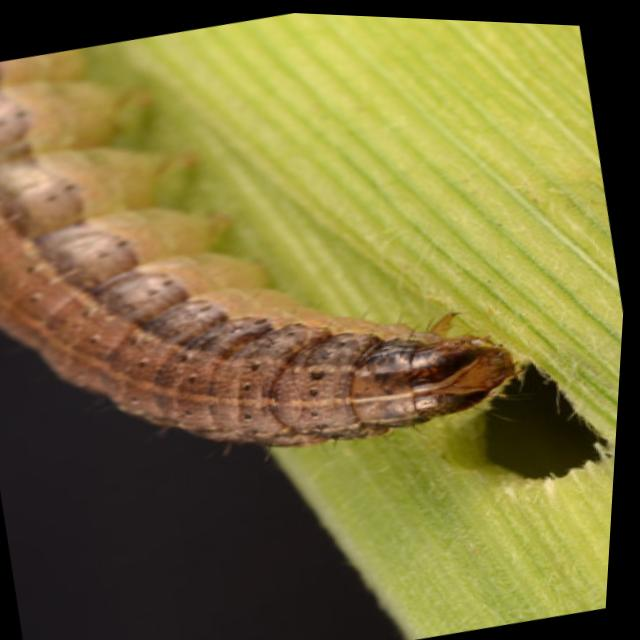Fall-Armyworm: (1, 1, 567, 529)
